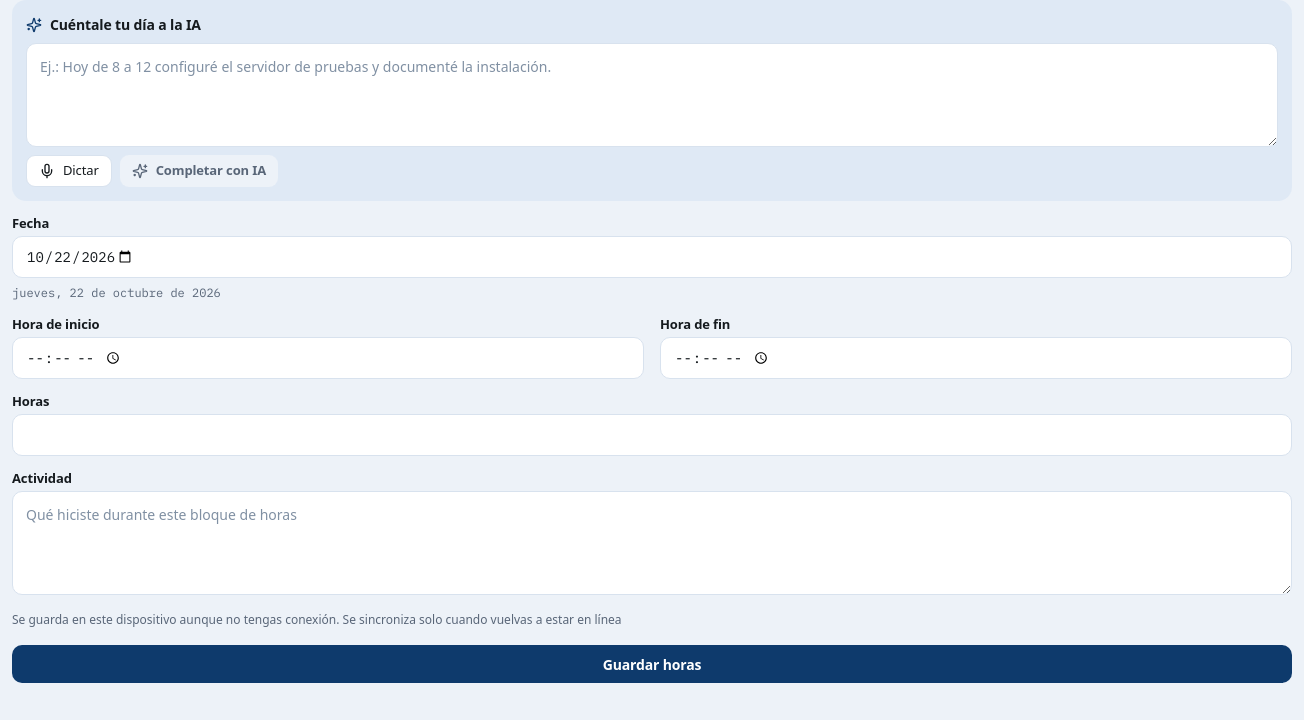
Test: HourLogForm — horas calculadas desde inicio y fin › rellena Horas con la duración entre inicio y fin
This screenshot has width=1304, height=720.
Type "08:00" into the time field labelled "Hora de inicio". click: (328, 358)
box: [12,337,644,379]
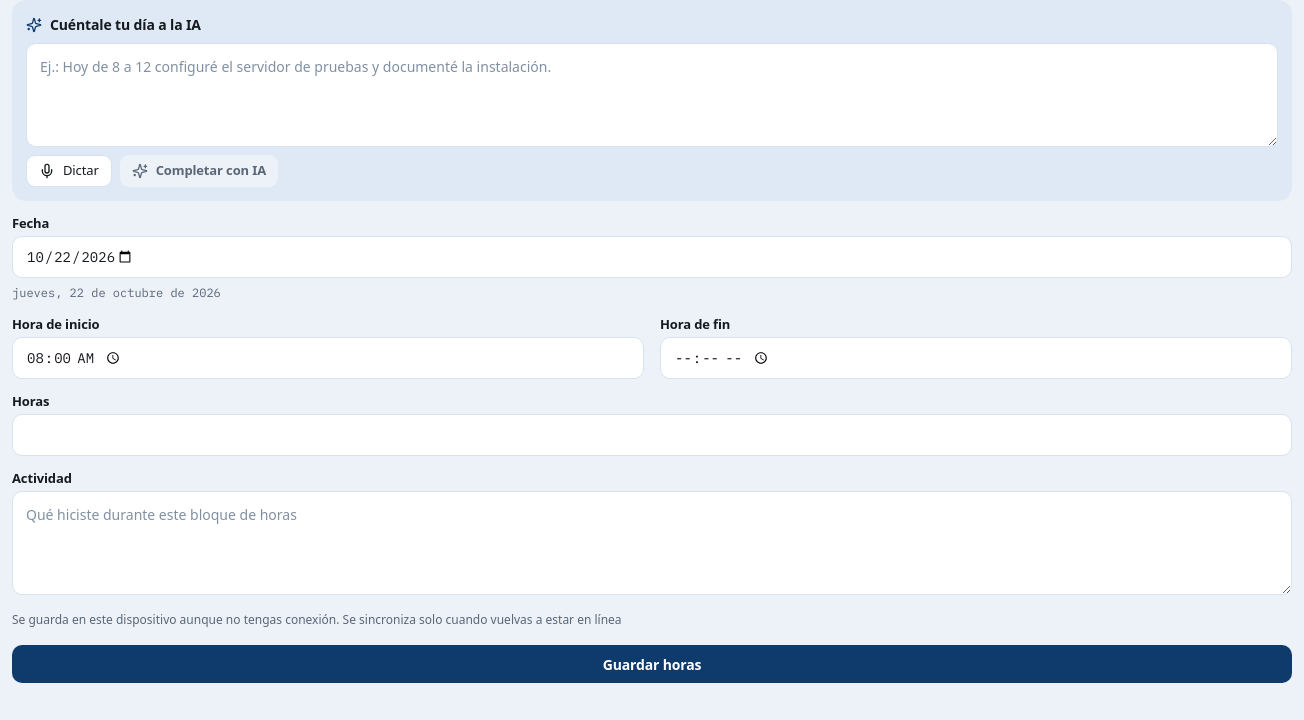
Type "12:00" into the time field labelled "Hora de fin". click: (976, 358)
box: [660,337,1292,379]
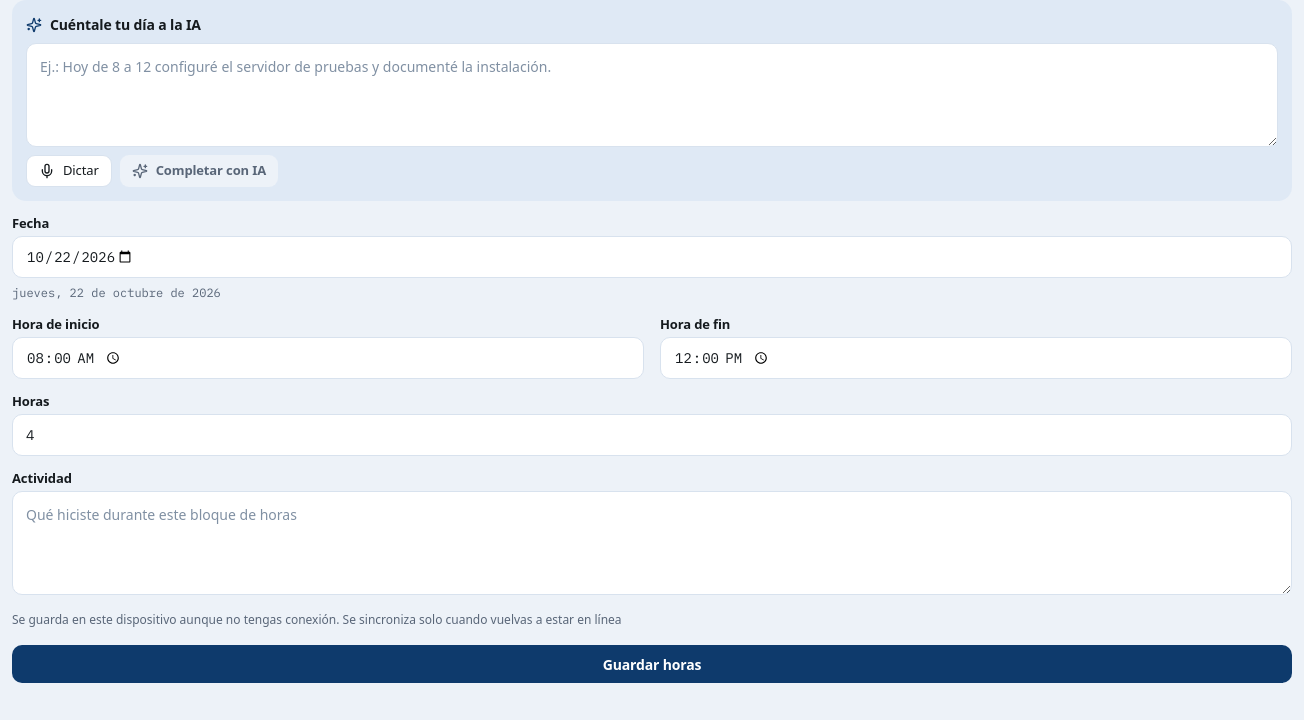
Result: the number field labelled "Horas" holds "4" at [12,414,1292,456]
